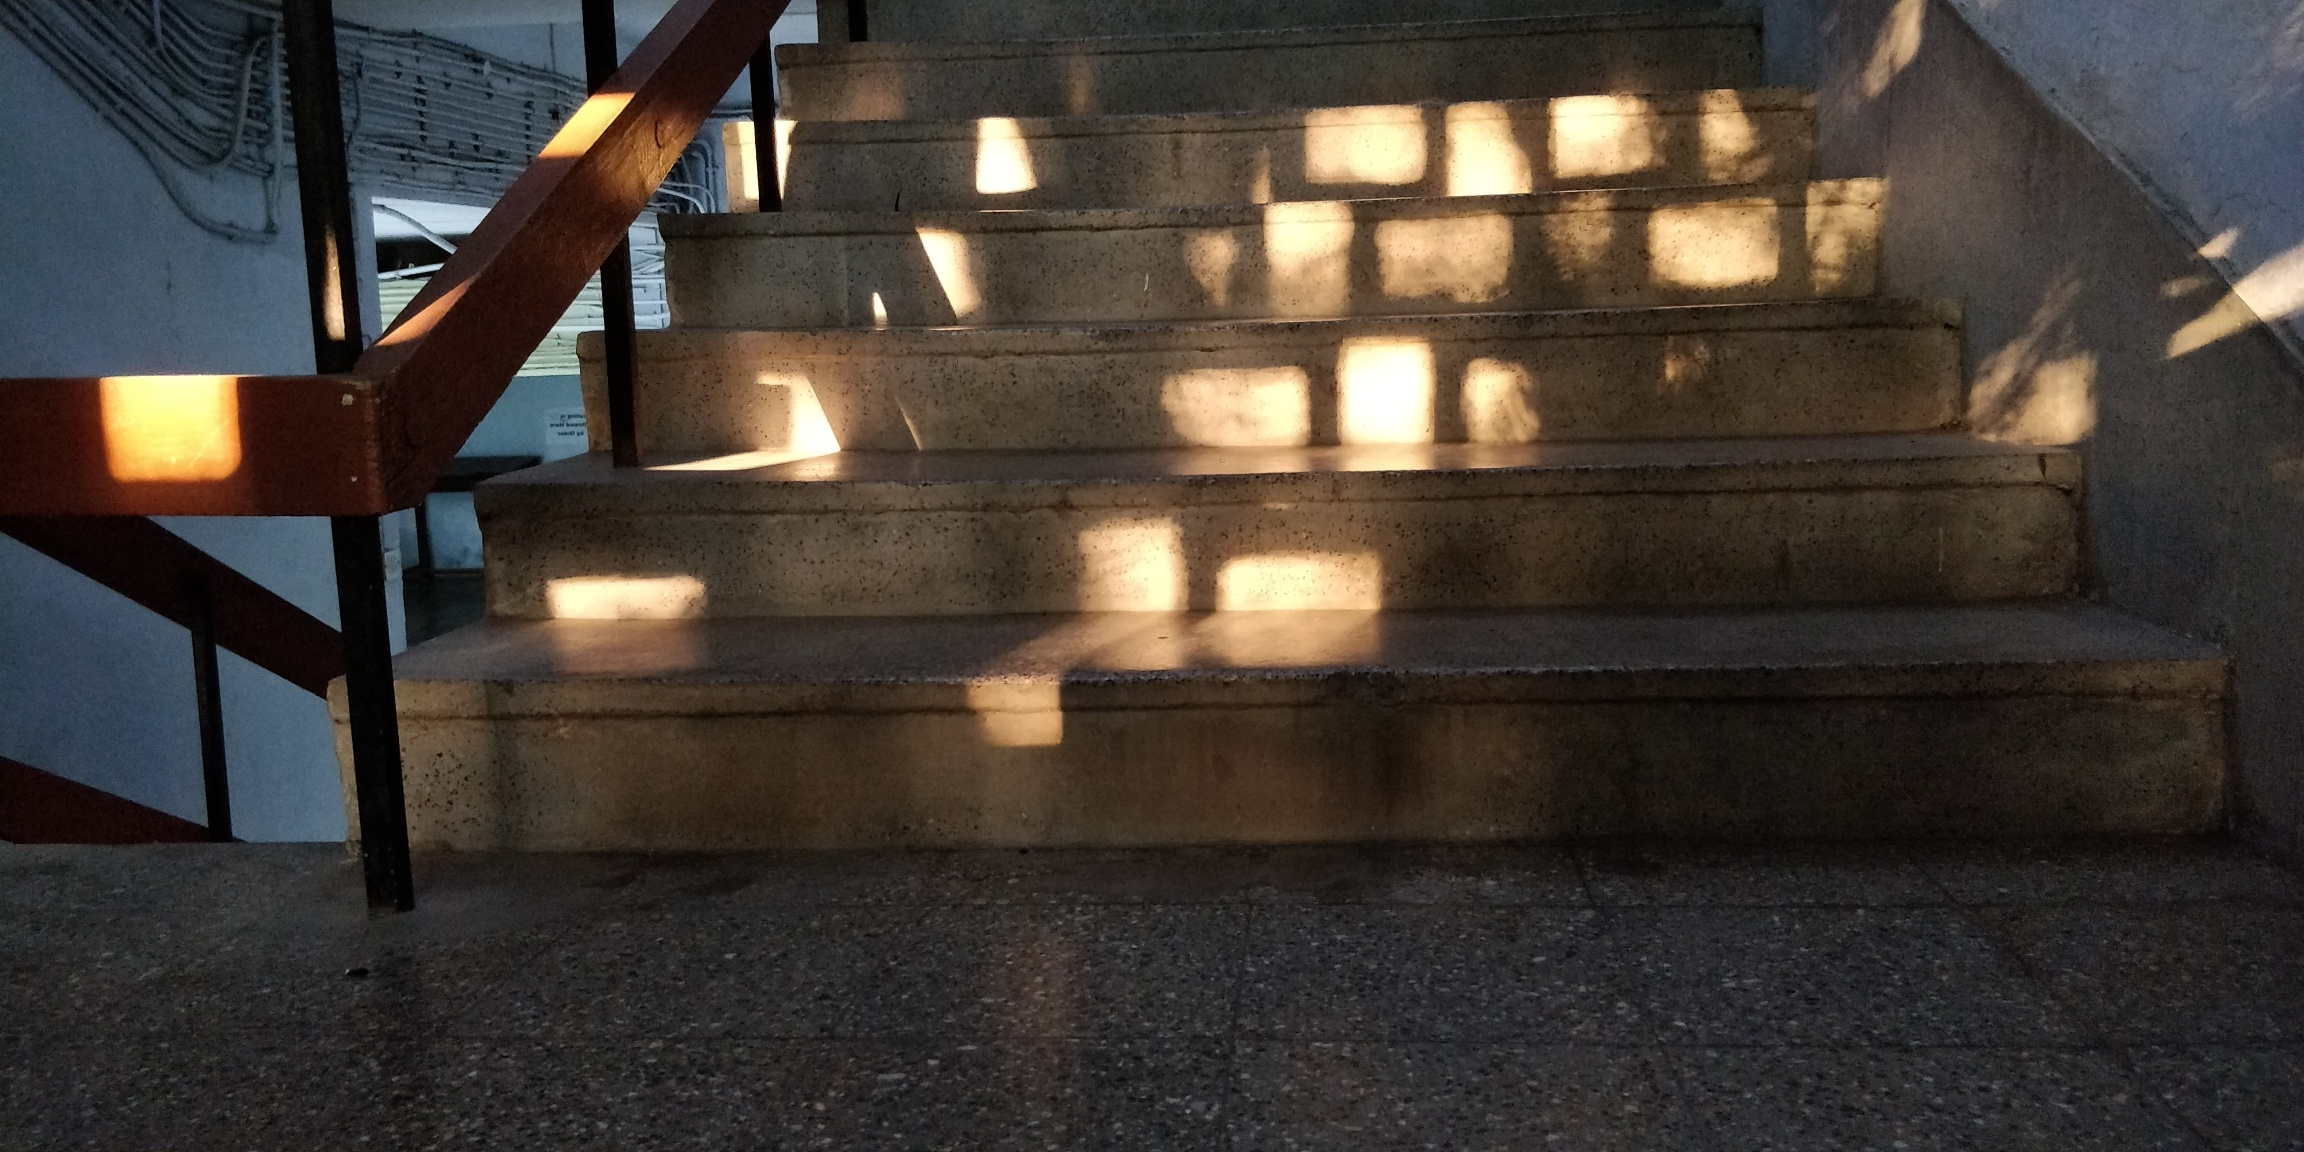stairs_up: (350, 22, 2217, 888)
